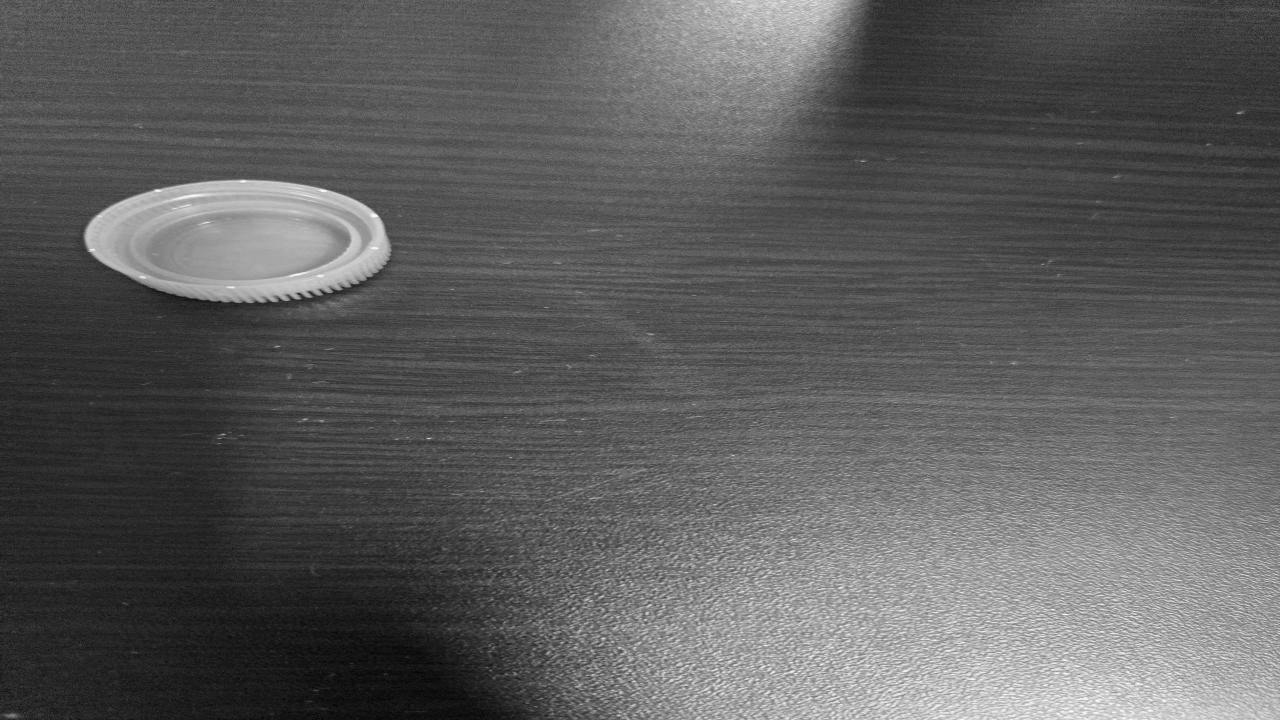bottle_cap: (90, 180, 390, 302)
